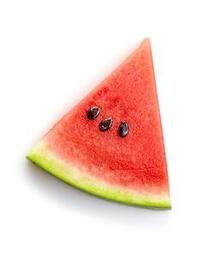watermelon: (27, 37, 175, 214)
